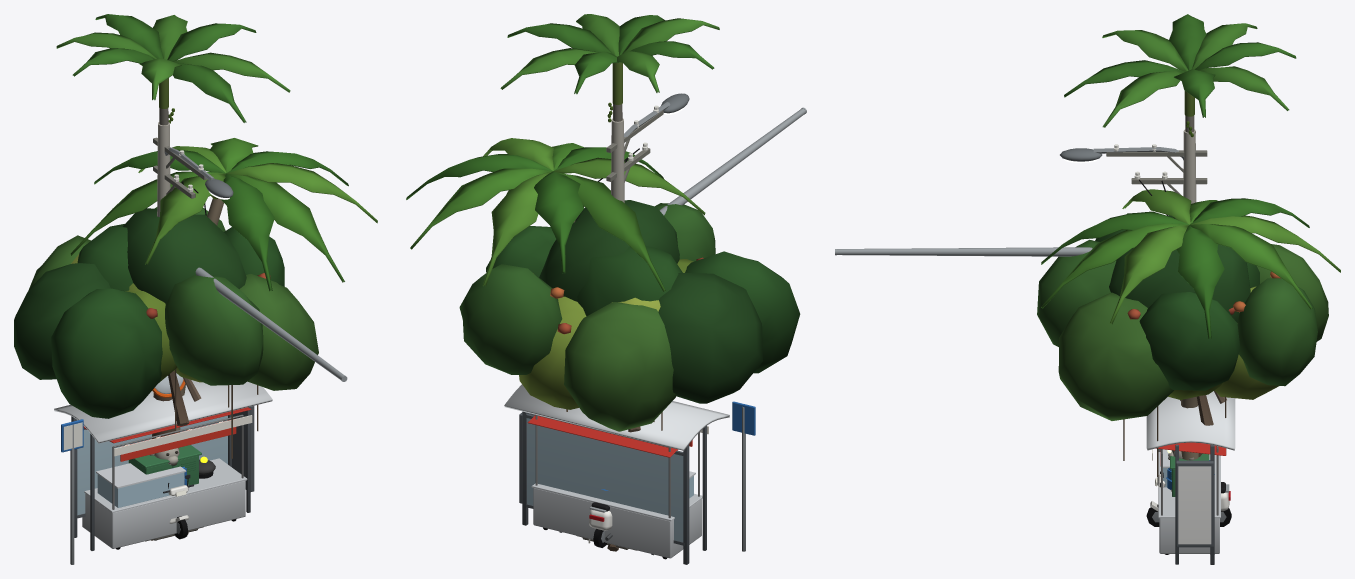
The model's file is props.glb.
The picture shows the model from 3 angles, left to right: view 1: azimuth 30°, elevation 25°; view 2: azimuth 150°, elevation 25°; view 3: azimuth 270°, elevation 25°; orthographic projection. The views are drawn at different scales.
Parts seen in each view (by area): view 1: tree_banyan, coconut_palm, stall_cart, bus_shelter, betel_palm, elec_pole, tree_luan, traffic_pole, transformer_box, street_lamp, scooter_parked_0; view 2: tree_banyan, bus_shelter, coconut_palm, betel_palm, stall_cart, tree_luan, elec_pole, traffic_pole, scooter_parked_0, street_lamp; view 3: tree_banyan, coconut_palm, betel_palm, bus_shelter, stall_cart, traffic_pole, elec_pole, tree_luan, street_lamp, scooter_parked_0.
Boxes of the visible parts, bbox=[...] form: tree_banyan: bbox=[14, 207, 318, 540]; coconut_palm: bbox=[70, 138, 377, 449]; stall_cart: bbox=[82, 407, 252, 549]; bus_shelter: bbox=[54, 380, 272, 564]; betel_palm: bbox=[56, 14, 290, 125]; elec_pole: bbox=[153, 122, 207, 216]; tree_luan: bbox=[71, 254, 270, 401]; traffic_pole: bbox=[195, 267, 347, 381]; transformer_box: bbox=[128, 445, 203, 541]; street_lamp: bbox=[164, 147, 233, 197]; scooter_parked_0: bbox=[163, 474, 193, 539]; tree_banyan: bbox=[459, 200, 800, 551]; bus_shelter: bbox=[504, 384, 755, 564]; coconut_palm: bbox=[406, 138, 705, 291]; betel_palm: bbox=[500, 14, 719, 122]; stall_cart: bbox=[527, 415, 708, 559]; tree_luan: bbox=[519, 257, 703, 409]; elec_pole: bbox=[575, 105, 663, 221]; traffic_pole: bbox=[659, 107, 806, 215]; scooter_parked_0: bbox=[589, 502, 612, 547]; street_lamp: bbox=[624, 93, 689, 137]; tree_banyan: bbox=[1037, 213, 1328, 476]; coconut_palm: bbox=[1041, 189, 1340, 460]; betel_palm: bbox=[1064, 14, 1296, 137]; bus_shelter: bbox=[1146, 391, 1235, 564]; stall_cart: bbox=[1152, 442, 1226, 554]; traffic_pole: bbox=[835, 247, 1092, 256]; elec_pole: bbox=[1106, 129, 1207, 218]; tree_luan: bbox=[1127, 271, 1280, 403]; street_lamp: bbox=[1060, 147, 1184, 161]; scooter_parked_0: bbox=[1146, 466, 1231, 526].
Bounding box in the file's own units: 7.51 × 10.62 × 10.01.
